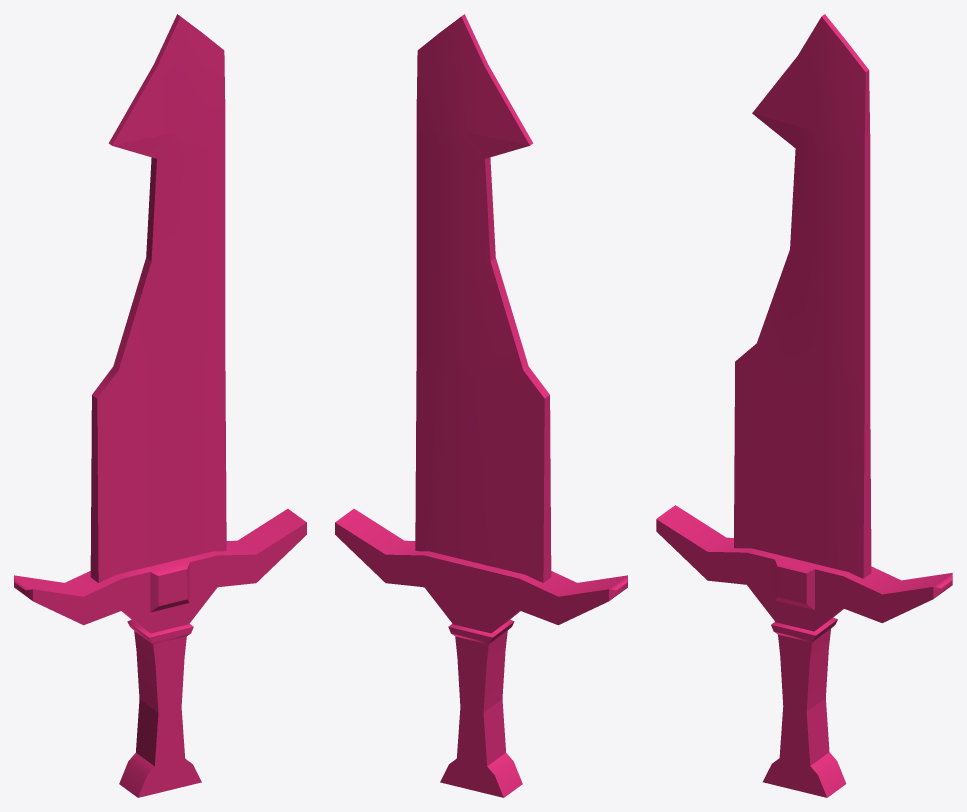
The model's file is testsword.fbx.
3 views of the same model, side by side, from view 1: azimuth 30°, elevation 25°; view 2: azimuth 150°, elevation 25°; view 3: azimuth 330°, elevation 25° (orthographic).
Visible parts, largest first — view 1: Cube.001; view 2: Cube.001; view 3: Cube.001.
Boxes of the visible parts, x1,y1,x2,y2 form: Cube.001: [14, 14, 306, 797]; Cube.001: [335, 14, 627, 797]; Cube.001: [656, 14, 952, 797].
Size of the model in its own units: 132 by 342 by 18.96.
